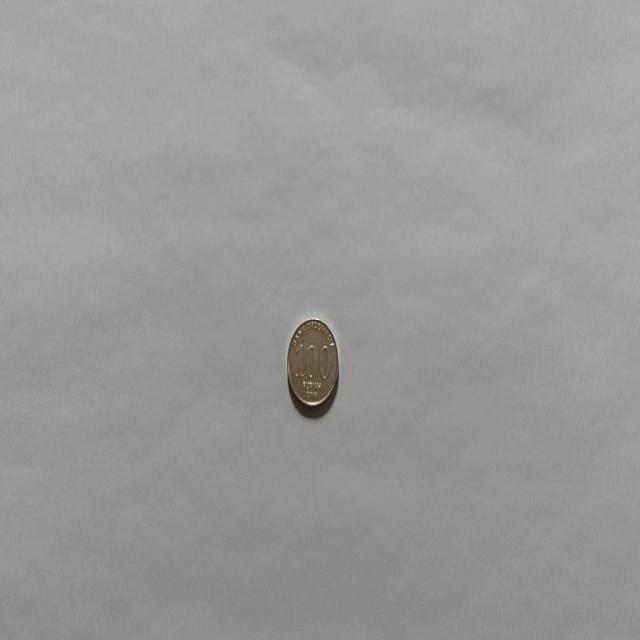seratus rupiah: (286, 316, 339, 409)
